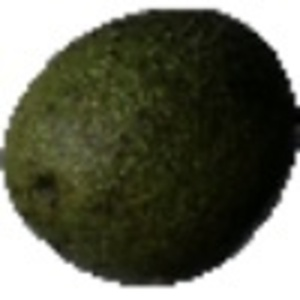abacate: (1, 6, 299, 287)
